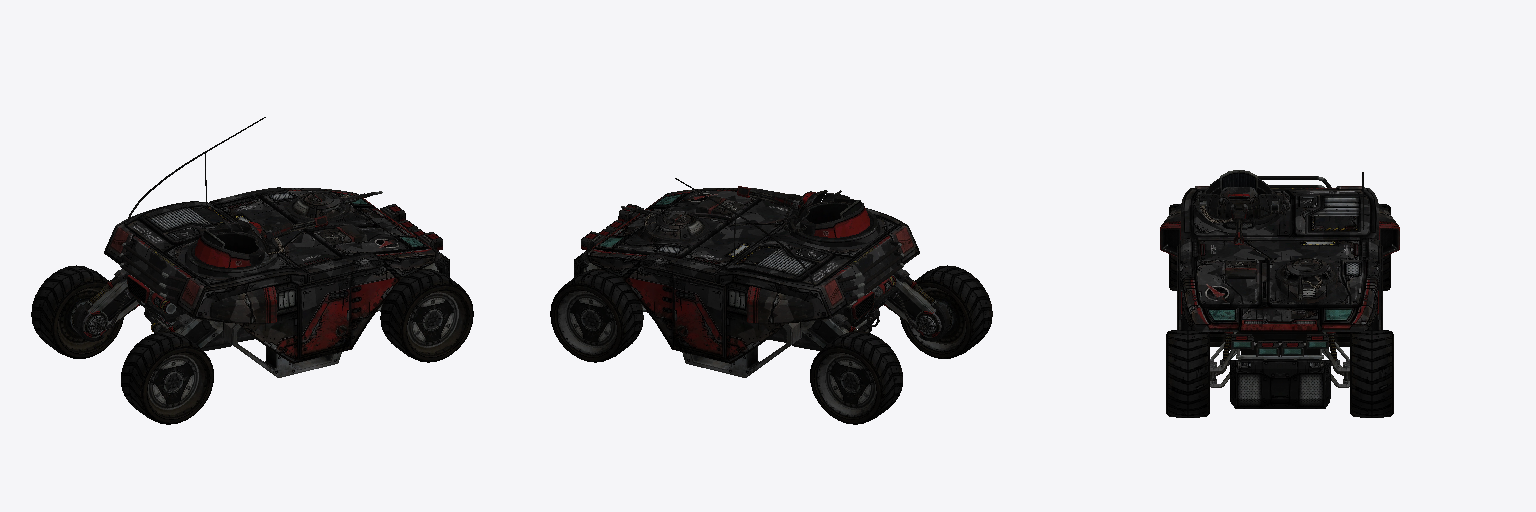
The picture shows the model from 3 angles: view 1: azimuth 30°, elevation 25°; view 2: azimuth 150°, elevation 25°; view 3: azimuth 270°, elevation 25°; orthographic projection.
Visible parts, largest first — view 1: Mat_Lancer_Vehicle_INST; view 2: Mat_Lancer_Vehicle_INST; view 3: Mat_Lancer_Vehicle_INST.
Boxes of the visible parts, x1,y1,x2,y2 form: Mat_Lancer_Vehicle_INST: [31, 117, 473, 424]; Mat_Lancer_Vehicle_INST: [550, 178, 992, 424]; Mat_Lancer_Vehicle_INST: [1160, 170, 1399, 417].
Bounding box in the file's own units: 684 × 368 × 415.
1 materials, 1 textured.